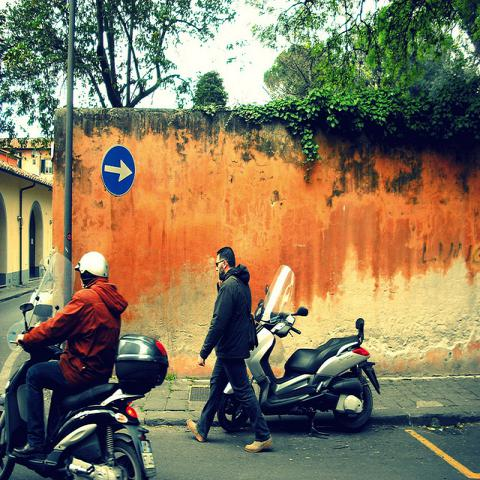motorcycle: (218, 265, 379, 436), (0, 345, 159, 475)
